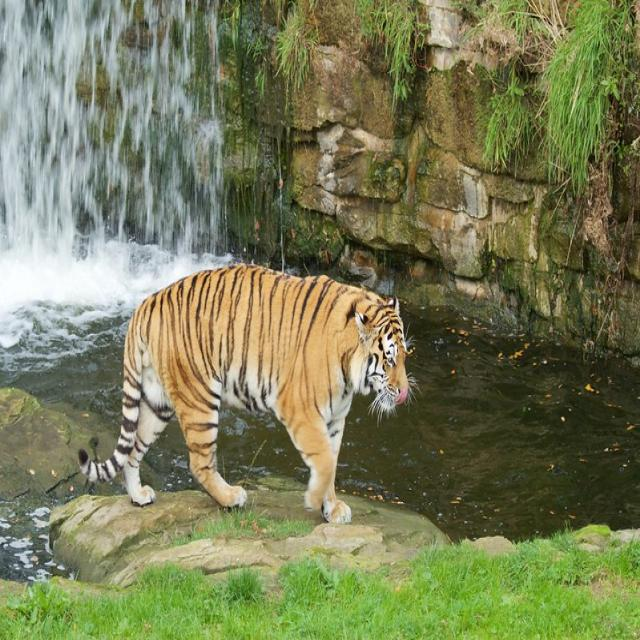Tiger: (77, 260, 412, 524)
